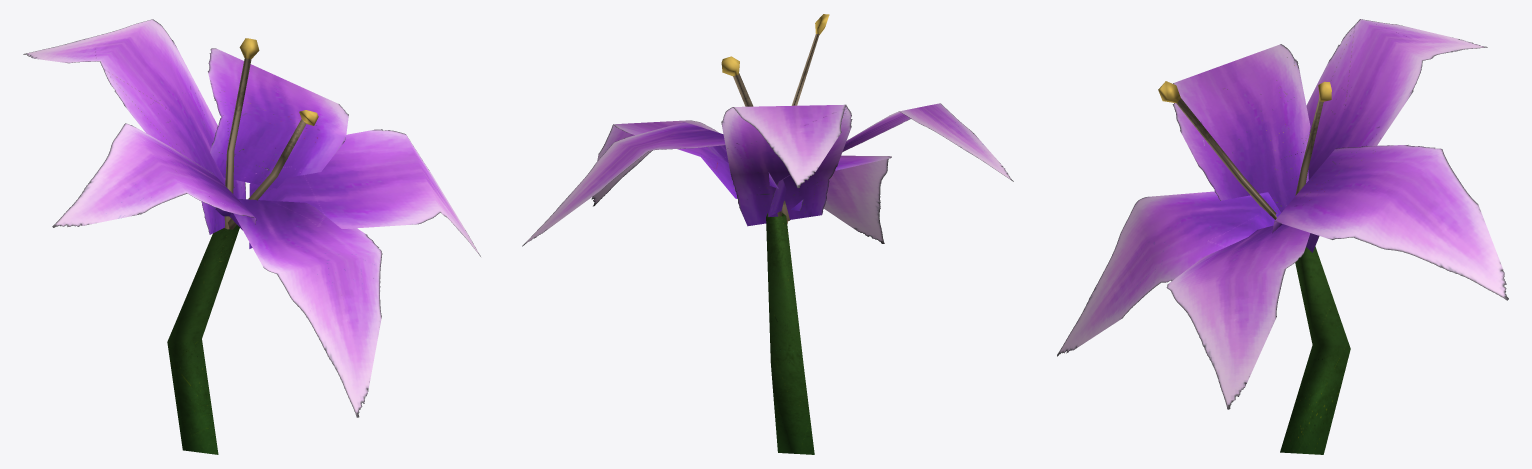
Rendered from flowers15.glb.
3 renders of one model, left to right at view 1: azimuth 30°, elevation 25°; view 2: azimuth 150°, elevation 25°; view 3: azimuth 270°, elevation 25°, orthographic. The views are drawn at different scales.
Parts seen in each view (by area): view 1: flowers.015; view 2: flowers.015; view 3: flowers.015.
Part boxes in pixels (box(x1,y1,x2,y2)): flowers.015: box(23, 19, 480, 454); flowers.015: box(522, 14, 1013, 454); flowers.015: box(1057, 19, 1508, 454).
Bounding box in the file's own units: 0.6099 × 0.5154 × 0.5495.
Materials: 1 (1 with a texture image).
